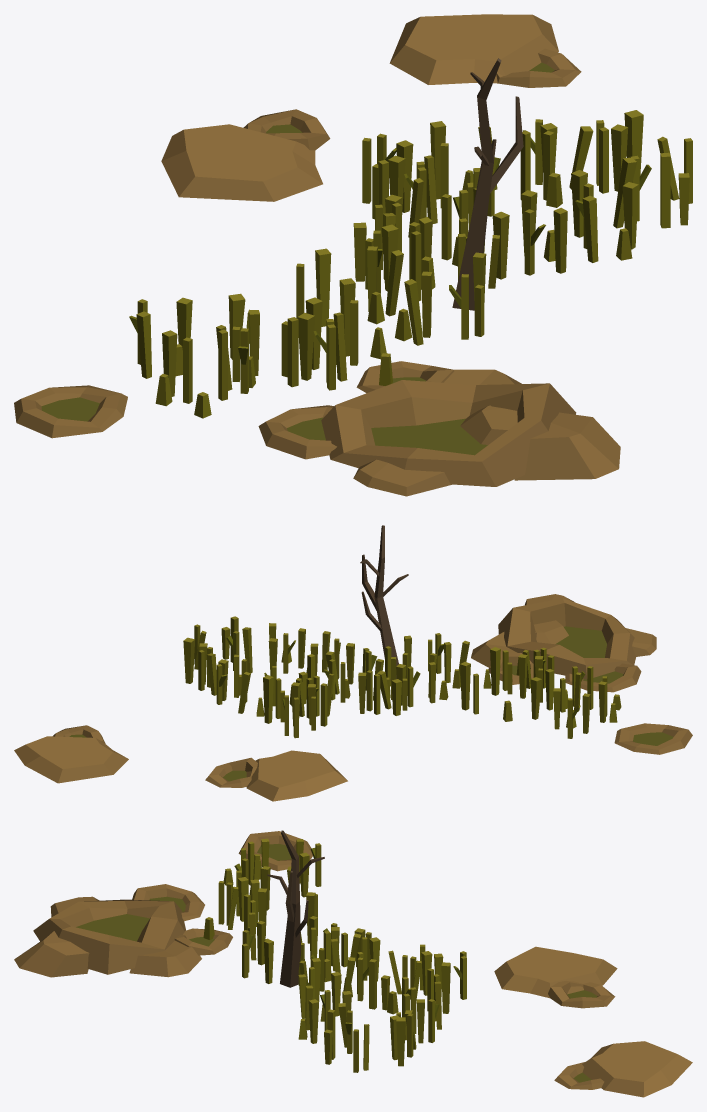
Rendered from SF_Env_Swamp_Preset_010.FBX.
3 views of the same model, one above another, from view 1: azimuth 30°, elevation 25°; view 2: azimuth 150°, elevation 25°; view 3: azimuth 270°, elevation 25° (orthographic). The views are drawn at different scales.
Visible parts, largest first — view 1: SF_Env_Swamp_Preset_010_Elements3, SF_Env_Swamp_Preset_010_Elements1, SF_Env_Swamp_Preset_010_Elements2, SF_Env_Swamp_Preset_010_Elements12, SF_Env_Swamp_Preset_010_Elements130, SF_Env_Swamp_Preset_010_Elements104, SF_Env_Swamp_Preset_010_Elements120, SF_Env_Swamp_Preset_010_Elements117, SF_Env_Swamp_Preset_010_Elements24, SF_Env_Swamp_Preset_010_Elements27, SF_Env_Swamp_Preset_010_Elements105, SF_Env_Swamp_Preset_010_Elements57 (+9 smaller); view 2: SF_Env_Swamp_Preset_010_Elements3, SF_Env_Swamp_Preset_010_Elements1, SF_Env_Swamp_Preset_010_Elements2, SF_Env_Swamp_Preset_010_Elements12, SF_Env_Swamp_Preset_010_Elements130, SF_Env_Swamp_Preset_010_Elements120, SF_Env_Swamp_Preset_010_Elements103, SF_Env_Swamp_Preset_010_Elements67, SF_Env_Swamp_Preset_010_Elements30; view 3: SF_Env_Swamp_Preset_010_Elements3, SF_Env_Swamp_Preset_010_Elements1, SF_Env_Swamp_Preset_010_Elements2, SF_Env_Swamp_Preset_010_Elements130, SF_Env_Swamp_Preset_010_Elements12, SF_Env_Swamp_Preset_010_Elements67, SF_Env_Swamp_Preset_010_Elements30.
Boxes of the visible parts, x1,y1,x2,y2 form: SF_Env_Swamp_Preset_010_Elements3: [258, 361, 620, 496]; SF_Env_Swamp_Preset_010_Elements1: [161, 109, 330, 201]; SF_Env_Swamp_Preset_010_Elements2: [389, 14, 581, 87]; SF_Env_Swamp_Preset_010_Elements12: [14, 385, 127, 438]; SF_Env_Swamp_Preset_010_Elements130: [452, 58, 523, 310]; SF_Env_Swamp_Preset_010_Elements104: [297, 313, 314, 380]; SF_Env_Swamp_Preset_010_Elements120: [315, 248, 331, 326]; SF_Env_Swamp_Preset_010_Elements117: [136, 311, 151, 378]; SF_Env_Swamp_Preset_010_Elements24: [582, 195, 598, 262]; SF_Env_Swamp_Preset_010_Elements27: [660, 152, 670, 228]; SF_Env_Swamp_Preset_010_Elements105: [287, 317, 298, 387]; SF_Env_Swamp_Preset_010_Elements57: [553, 207, 567, 273]; SF_Env_Swamp_Preset_010_Elements3: [471, 594, 656, 692]; SF_Env_Swamp_Preset_010_Elements1: [205, 750, 347, 801]; SF_Env_Swamp_Preset_010_Elements2: [14, 725, 128, 783]; SF_Env_Swamp_Preset_010_Elements12: [614, 723, 692, 754]; SF_Env_Swamp_Preset_010_Elements130: [360, 525, 408, 680]; SF_Env_Swamp_Preset_010_Elements120: [460, 661, 470, 710]; SF_Env_Swamp_Preset_010_Elements103: [490, 647, 500, 695]; SF_Env_Swamp_Preset_010_Elements67: [263, 675, 273, 723]; SF_Env_Swamp_Preset_010_Elements30: [183, 637, 195, 683]; SF_Env_Swamp_Preset_010_Elements3: [14, 884, 232, 977]; SF_Env_Swamp_Preset_010_Elements1: [494, 946, 617, 1008]; SF_Env_Swamp_Preset_010_Elements2: [554, 1041, 692, 1097]; SF_Env_Swamp_Preset_010_Elements130: [267, 830, 324, 987]; SF_Env_Swamp_Preset_010_Elements12: [238, 831, 312, 871]; SF_Env_Swamp_Preset_010_Elements67: [441, 962, 450, 1013]; SF_Env_Swamp_Preset_010_Elements30: [396, 1017, 405, 1066].
Bounding box in the file's own units: 26.94 × 7.95 × 29.51.
